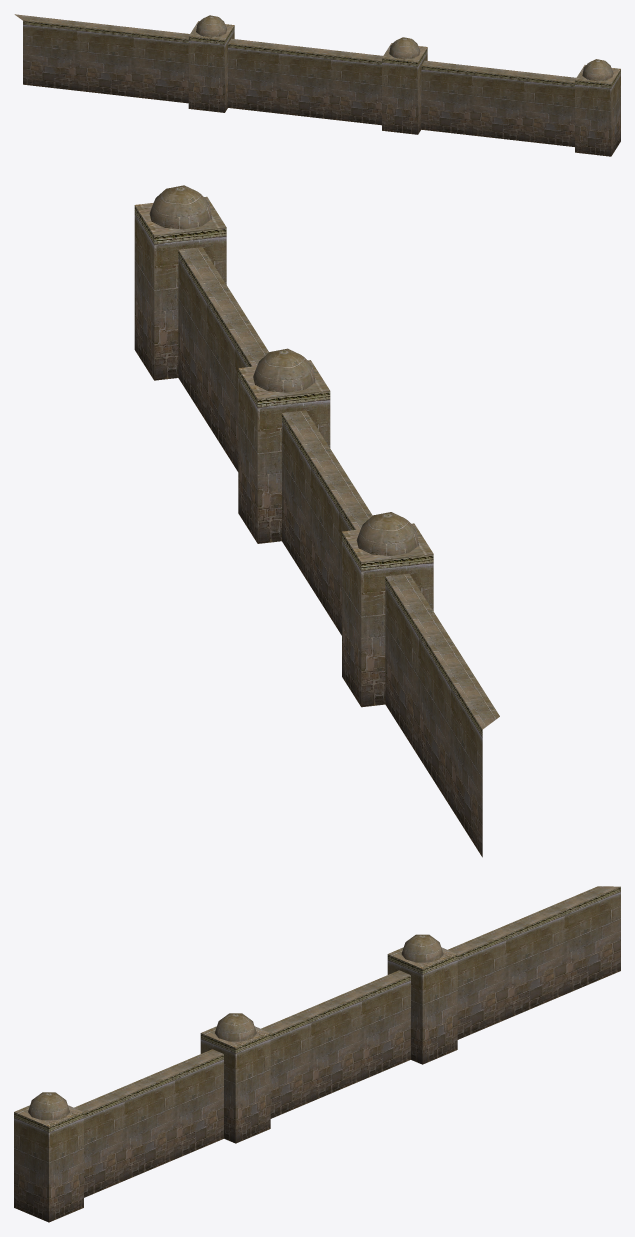
The model's file is M7Z1_CityWall2C.glb.
The picture shows the model from 3 angles, top to bottom: view 1: azimuth 30°, elevation 25°; view 2: azimuth 150°, elevation 25°; view 3: azimuth 270°, elevation 25°; orthographic projection. The views are drawn at different scales.
Visible parts, largest first — view 1: M7Z1_CITYWALL2C; view 2: M7Z1_CITYWALL2C; view 3: M7Z1_CITYWALL2C.
Part boxes in pixels (<box>): M7Z1_CITYWALL2C: <box>14,14,620,156</box>; M7Z1_CITYWALL2C: <box>134,185,499,857</box>; M7Z1_CITYWALL2C: <box>14,886,620,1222</box>.
Size of the model in its own units: 25.5 by 5.41 by 26.
1 material, 1 textured.
